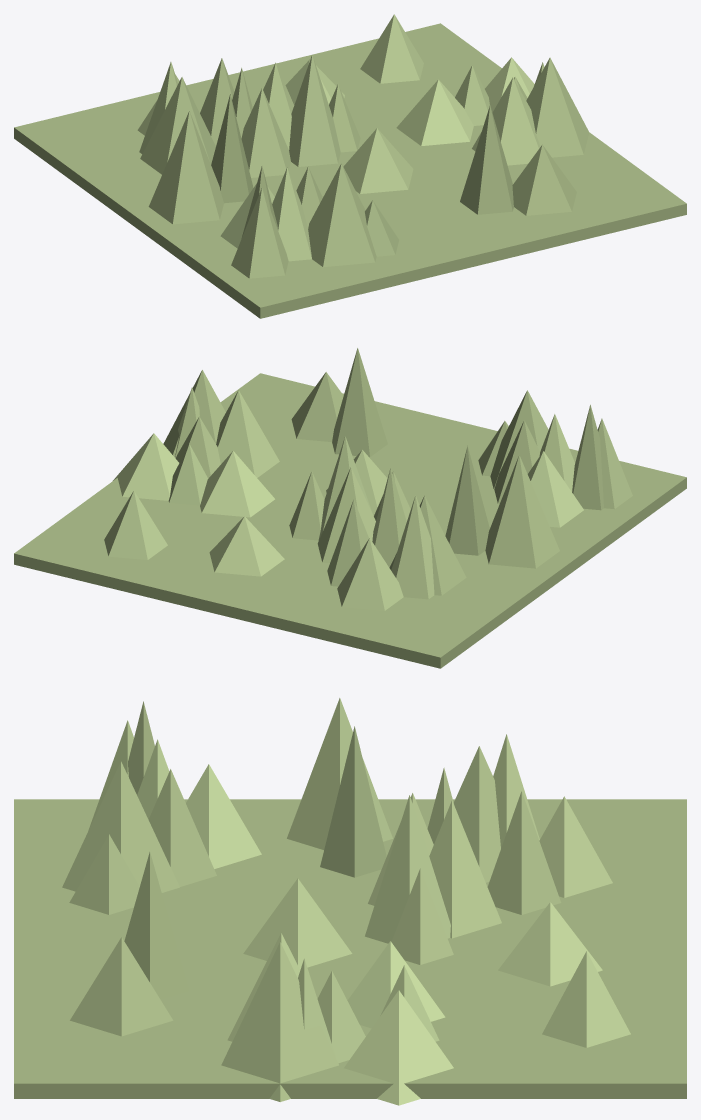
Rendered from low_vegetation.glb.
3 renders of one model, top to bottom at view 1: azimuth 30°, elevation 25°; view 2: azimuth 150°, elevation 25°; view 3: azimuth 270°, elevation 25°, orthographic. The views are drawn at different scales.
Visible parts, largest first — view 1: part_24, part_14, part_16, part_22, part_10, part_20, part_6, part_4, part_15, part_17, part_18, part_1 (+11 smaller); view 2: part_24, part_16, part_22, part_14, part_10, part_6, part_15, part_17, part_11, part_3, part_2, part_9 (+13 smaller); view 3: part_24, part_14, part_6, part_9, part_20, part_18, part_16, part_12, part_5, part_22, part_10, part_4 (+13 smaller).
Part boxes in pixels (bbox=[...]): part_24: bbox=[14, 23, 686, 318]; part_14: bbox=[343, 57, 589, 193]; part_16: bbox=[360, 14, 540, 165]; part_22: bbox=[148, 111, 223, 224]; part_10: bbox=[232, 67, 360, 177]; part_20: bbox=[308, 163, 376, 267]; part_6: bbox=[211, 94, 398, 256]; part_4: bbox=[289, 54, 340, 166]; part_15: bbox=[460, 105, 513, 214]; part_17: bbox=[396, 79, 473, 145]; part_18: bbox=[512, 144, 576, 215]; part_1: bbox=[231, 188, 288, 278]; part_24: bbox=[14, 373, 686, 668]; part_16: bbox=[104, 390, 279, 559]; part_22: bbox=[485, 455, 559, 568]; part_14: bbox=[163, 370, 387, 515]; part_10: bbox=[289, 468, 410, 567]; part_6: bbox=[445, 421, 508, 555]; part_15: bbox=[332, 348, 387, 457]; part_17: bbox=[200, 451, 274, 517]; part_11: bbox=[337, 538, 403, 610]; part_3: bbox=[391, 495, 434, 599]; part_2: bbox=[209, 516, 284, 576]; part_9: bbox=[113, 433, 179, 500]; part_24: bbox=[14, 799, 686, 1098]; part_14: bbox=[221, 878, 365, 1101]; part_6: bbox=[69, 726, 386, 914]; part_9: bbox=[344, 990, 453, 1105]; part_20: bbox=[62, 761, 179, 892]; part_18: bbox=[70, 937, 173, 1036]; part_16: bbox=[227, 933, 630, 1047]; part_12: bbox=[429, 800, 501, 938]; part_5: bbox=[487, 791, 561, 914]; part_22: bbox=[287, 698, 392, 849]; part_10: bbox=[368, 767, 453, 964]; part_4: bbox=[365, 795, 450, 943].
Size of the model in its own units: 2.05 by 0.4979 by 2.
